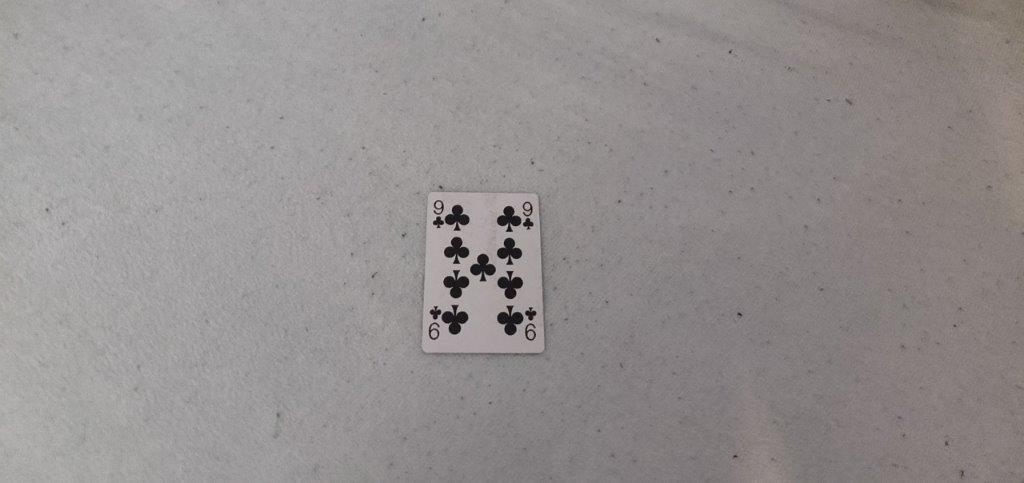9C: (520, 197, 537, 235), (431, 197, 446, 231)
